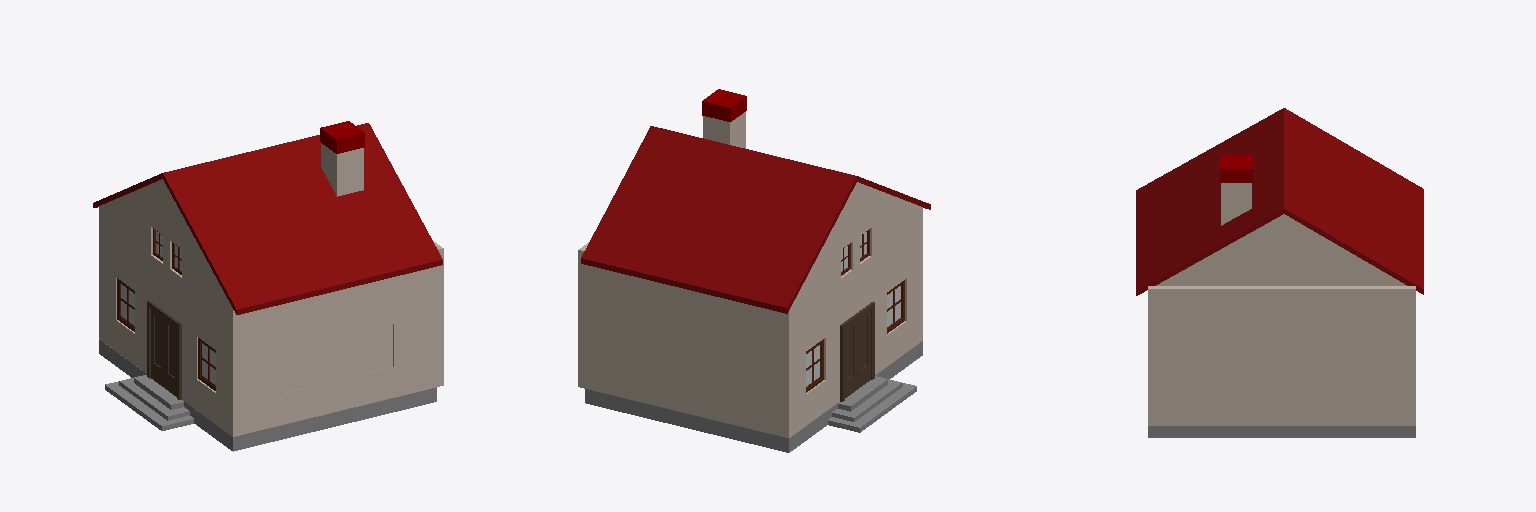
Rendered from house.obj.
The picture shows the model from 3 angles: view 1: azimuth 30°, elevation 25°; view 2: azimuth 150°, elevation 25°; view 3: azimuth 270°, elevation 25°; orthographic projection.
Parts seen in each view (by area): view 1: Wall01, Box02, Box01, Wall02, BiFoldDoor, Box04, Box11, Box23, Box10, Box09; view 2: Box02, Wall02, Wall01, Box01, BiFoldDoor, Box11, Box23, Box04, Box10, Box09; view 3: Wall02, Box02, Box01, Box04, Box23.
Part boxes in pixels (bbox=[...]): Wall01: bbox=[99, 179, 436, 436]; Box02: bbox=[93, 123, 442, 314]; Box01: bbox=[99, 339, 436, 451]; Wall02: bbox=[275, 241, 443, 394]; BiFoldDoor: bbox=[147, 300, 181, 399]; Box04: bbox=[321, 143, 363, 196]; Box11: bbox=[105, 381, 193, 430]; Box23: bbox=[320, 121, 364, 153]; Box10: bbox=[119, 376, 189, 420]; Box09: bbox=[134, 375, 183, 409]; Box02: bbox=[581, 126, 930, 313]; Wall02: bbox=[578, 242, 782, 436]; Wall01: bbox=[783, 182, 922, 437]; Box01: bbox=[585, 341, 922, 452]; BiFoldDoor: bbox=[840, 302, 874, 401]; Box11: bbox=[828, 383, 916, 432]; Box23: bbox=[702, 89, 746, 121]; Box04: bbox=[703, 112, 745, 148]; Box10: bbox=[832, 377, 902, 421]; Box09: bbox=[838, 376, 887, 411]; Wall02: bbox=[1148, 214, 1415, 425]; Box02: bbox=[1136, 108, 1423, 295]; Box01: bbox=[1148, 426, 1415, 437]; Box04: bbox=[1221, 183, 1251, 225]; Box23: bbox=[1220, 155, 1252, 182].
Bounding box in the file's own units: 19.42 × 19.19 × 19.92.